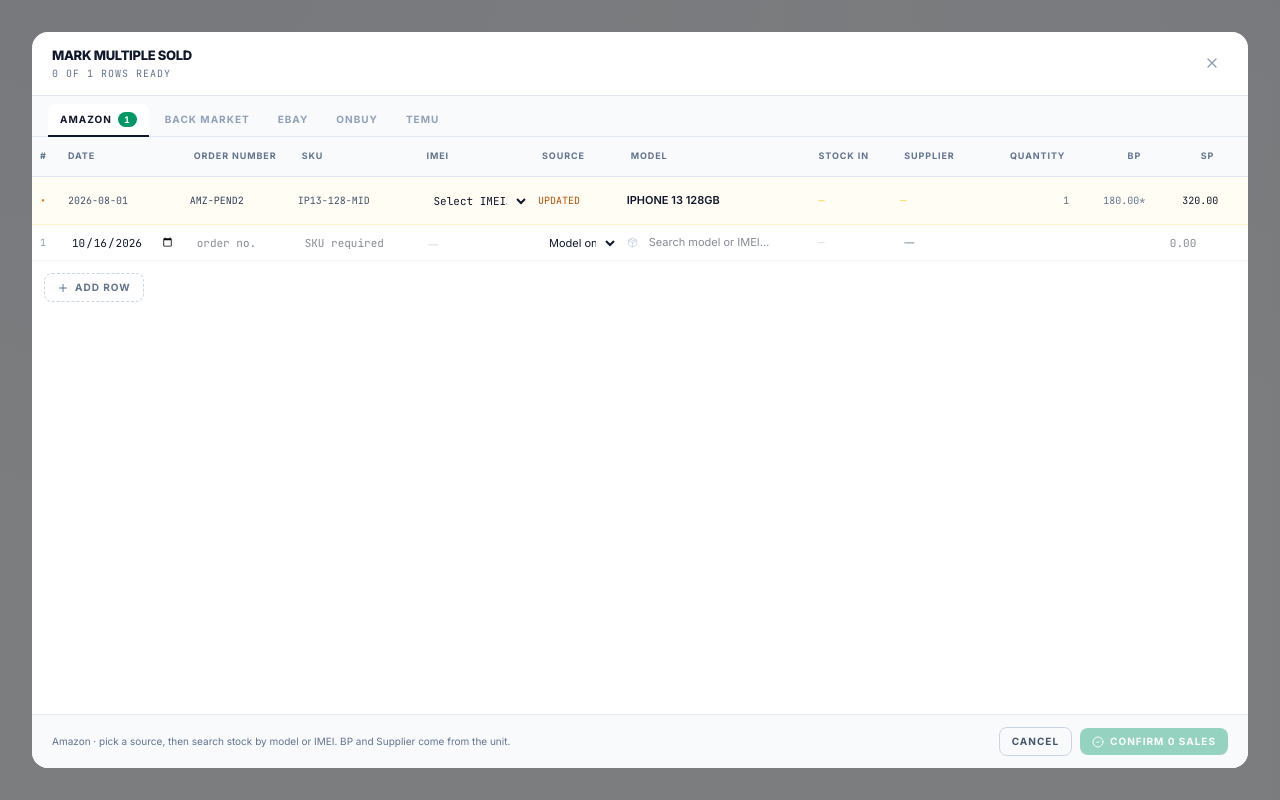
Test: the sale date is the operator's, and it leads the row › fills Supplier and the real BP the moment a handset is chosen
Expected: the cell does not show "MOBILE WHOLESALE LTD"
Select "350000000000001 · MIDNIGHT · £200.00" in the dropdown named "IMEI for AMZ-PEND2" at (476, 200), box x1=422 y1=188 x2=530 y2=214
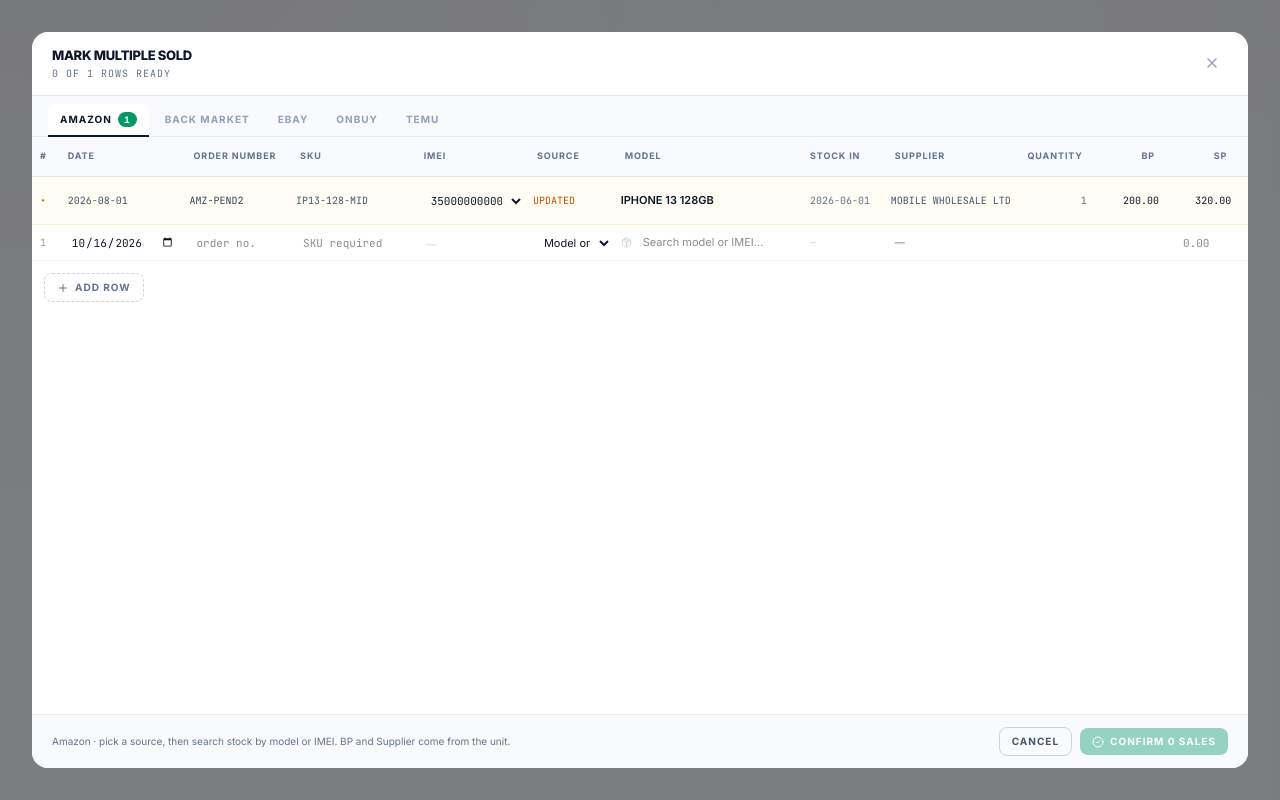
Now the cell "MOBILE WHOLESALE LTD" is shown, box x1=887 y1=176 x2=1015 y2=224
Now the cell "200.00" is shown, box x1=1091 y1=176 x2=1163 y2=224
Now the cell no longer shows "180.00*"
